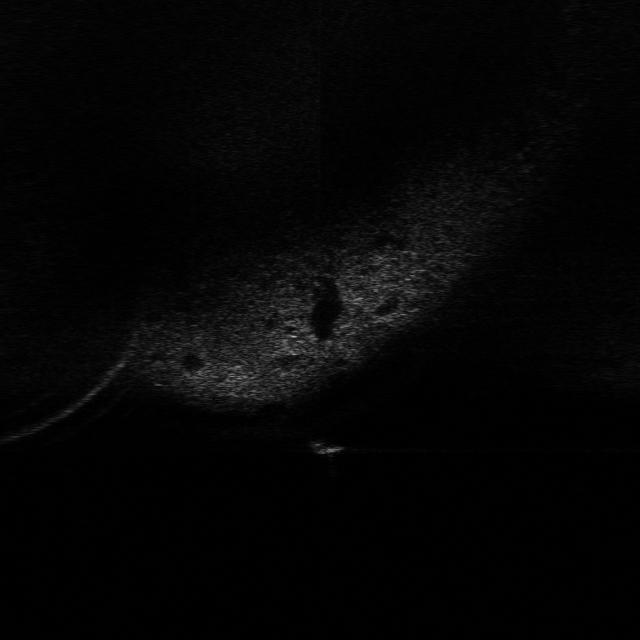cube: (303, 432, 351, 460)
